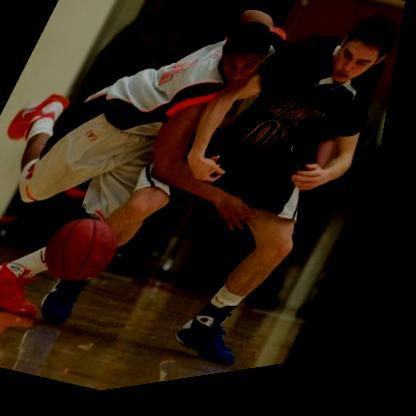basketball: (41, 206, 143, 300)
